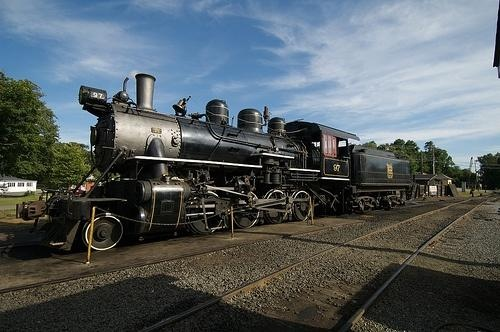train: (15, 73, 413, 253)
